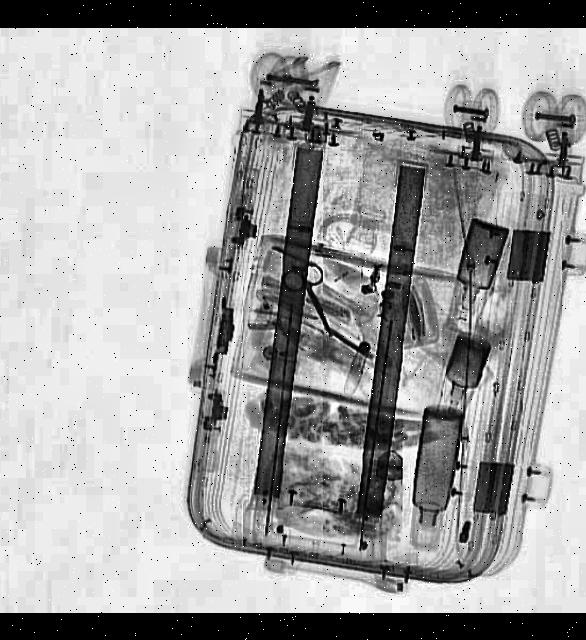Scissors: (280, 256, 354, 346)
